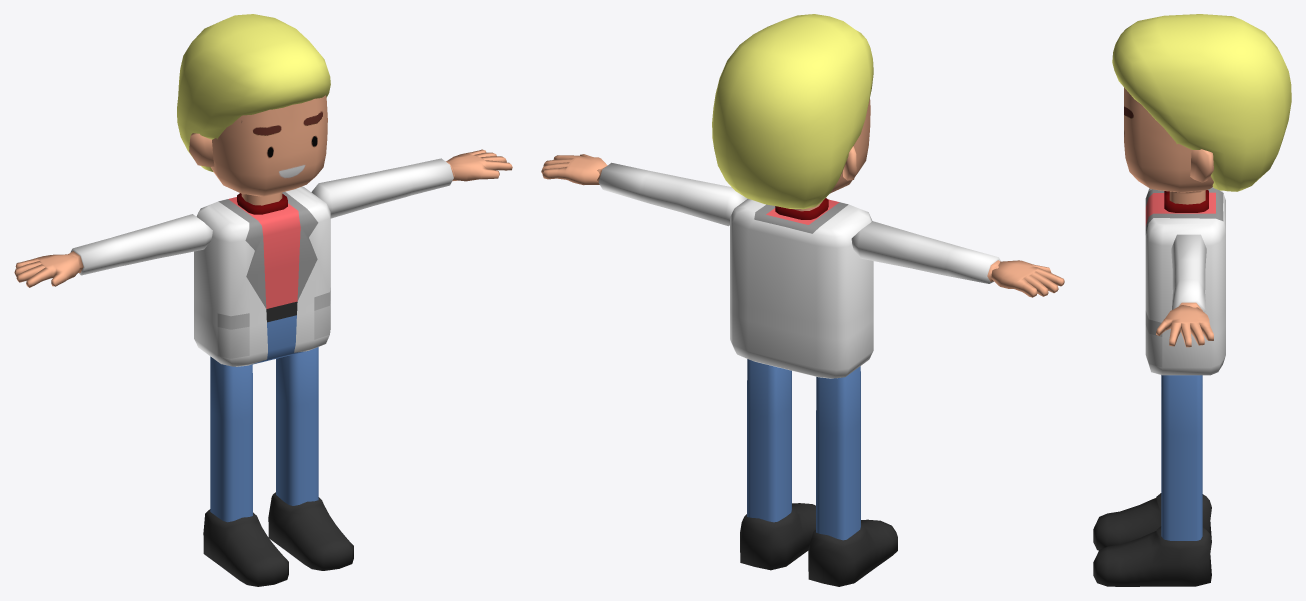
File: NPC_White01_BlondeHair05.gltf
3 views of the same model, side by side, from view 1: azimuth 30°, elevation 25°; view 2: azimuth 150°, elevation 25°; view 3: azimuth 270°, elevation 25° (orthographic). The views are drawn at different scales.
Visible parts, largest first — view 1: NPC_Corpo_White1_BlondeHair.005; view 2: NPC_Corpo_White1_BlondeHair.005; view 3: NPC_Corpo_White1_BlondeHair.005.
Part boxes in pixels (x1,y1,x2,y2): NPC_Corpo_White1_BlondeHair.005: [14, 14, 512, 586]; NPC_Corpo_White1_BlondeHair.005: [541, 14, 1064, 586]; NPC_Corpo_White1_BlondeHair.005: [1093, 14, 1291, 586].
Bounding box in the file's own units: 2.31 × 2.3 × 0.7742.
1 material, 1 textured.
